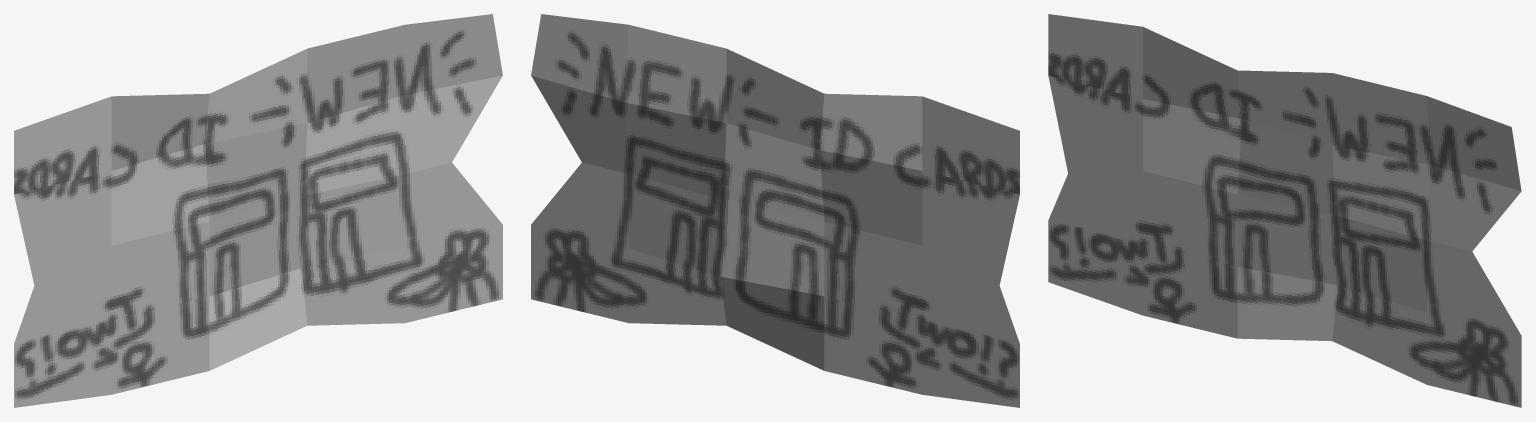
File: cardposter.gltf
The picture shows the model from 3 angles, left to right: view 1: azimuth 30°, elevation 25°; view 2: azimuth 150°, elevation 25°; view 3: azimuth 330°, elevation 25°; orthographic projection. The views are drawn at different scales.
Visible parts, largest first — view 1: plane; view 2: plane; view 3: plane.
Part boxes in pixels (x1,y1,x2,y2): plane: [14, 14, 502, 407]; plane: [531, 14, 1019, 407]; plane: [1048, 14, 1521, 407].
Size of the model in its own units: 3 by 1.75 by 0.0625.
Materials: 1 (1 with a texture image).
